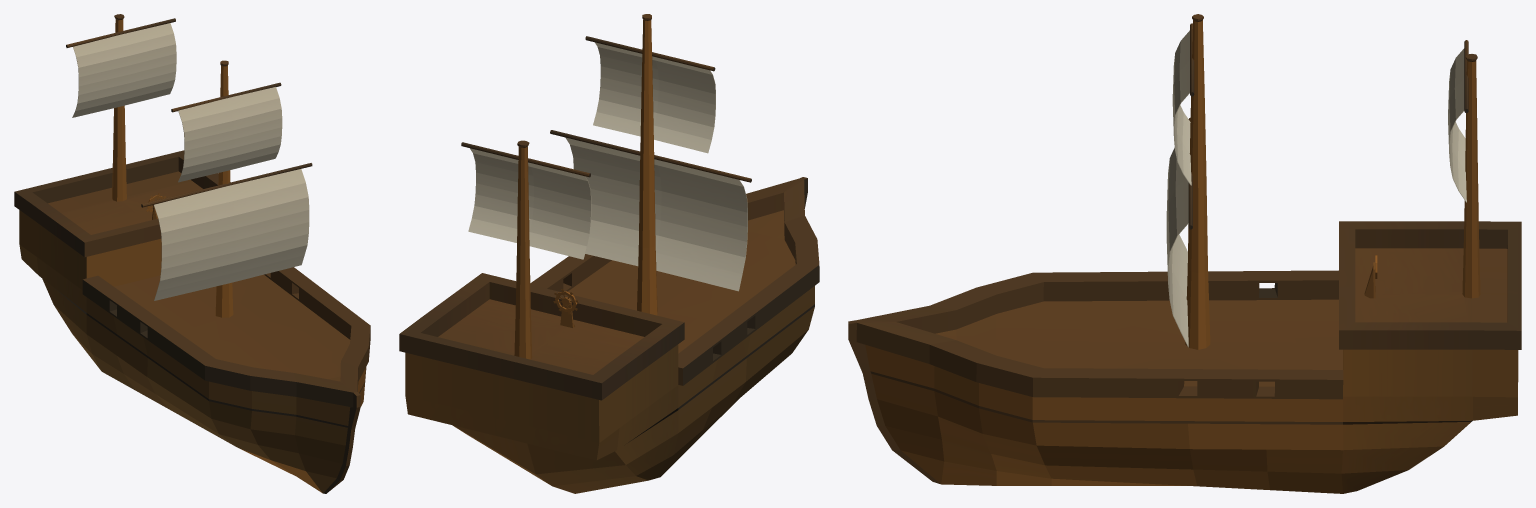
The model's file is PirateBoatLowPoly.fbx.
The picture shows the model from 3 angles, left to right: view 1: azimuth 30°, elevation 25°; view 2: azimuth 150°, elevation 25°; view 3: azimuth 270°, elevation 25°; orthographic projection. The views are drawn at different scales.
Visible parts, largest first — view 1: Cube; view 2: Cube; view 3: Cube.
Boxes of the visible parts, <box> form: Cube: <box>14,14,370,493</box>; Cube: <box>399,14,819,493</box>; Cube: <box>848,14,1521,493</box>.
Size of the model in its own units: 553 by 1105 by 1437.
